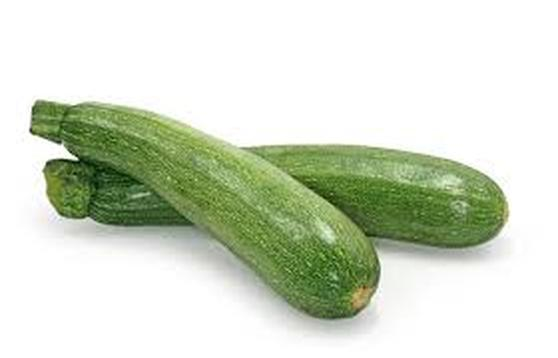zucchini: (35, 87, 383, 318)
